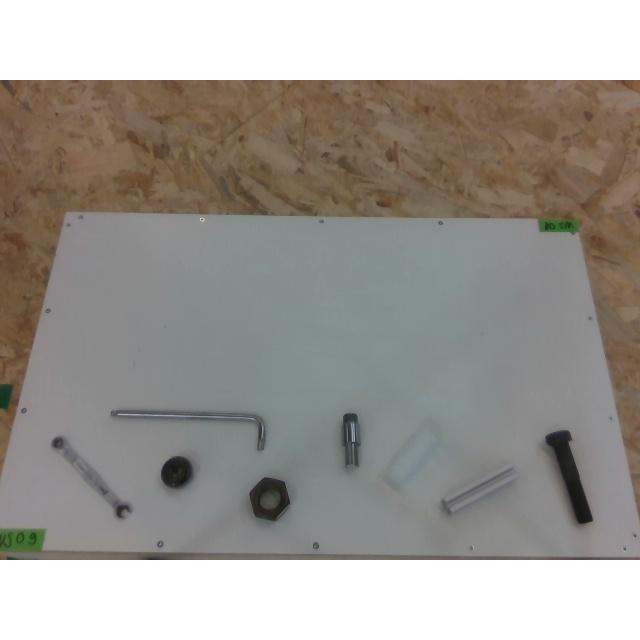AllenKey: (110, 410, 266, 450)
Axis2: (342, 412, 358, 468)
Bearing2: (160, 456, 192, 488)
F20_20_G: (441, 466, 517, 514)
M20_100: (544, 430, 592, 522)
M30: (249, 477, 289, 521)
Spacer: (384, 422, 441, 491)
Wrench: (51, 436, 131, 520)
